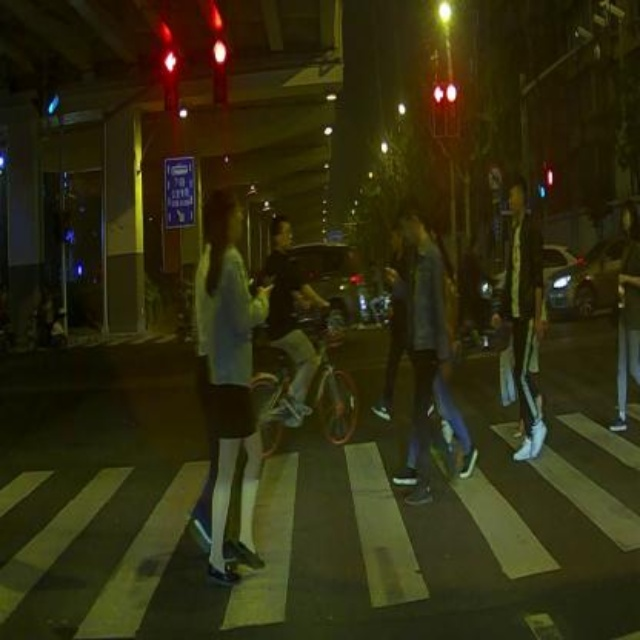Đèn đỏ: (211, 35, 229, 108), (445, 79, 459, 137)
